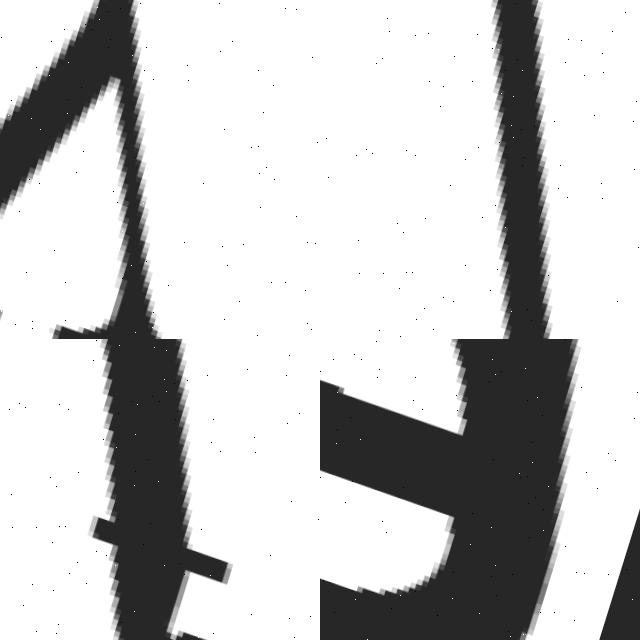A: (320, 339, 640, 640)
F: (0, 339, 320, 640)
L: (320, 0, 640, 339)
Y: (0, 0, 320, 339)
